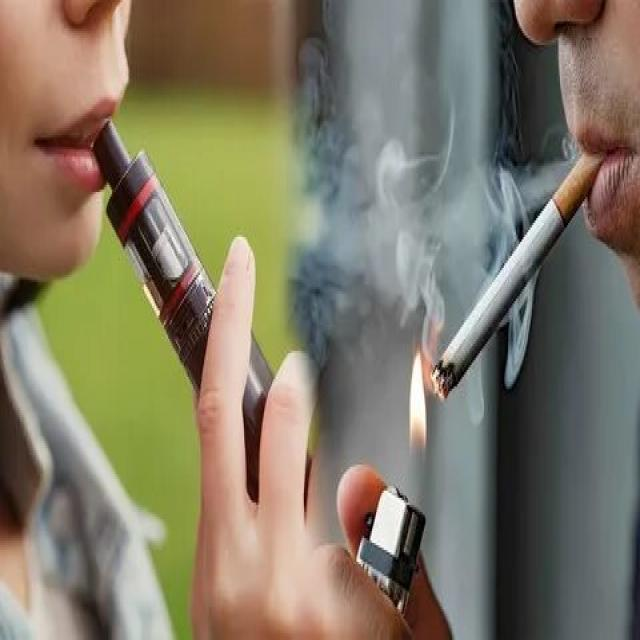smoke: (92, 116, 335, 538), (423, 145, 608, 410)
